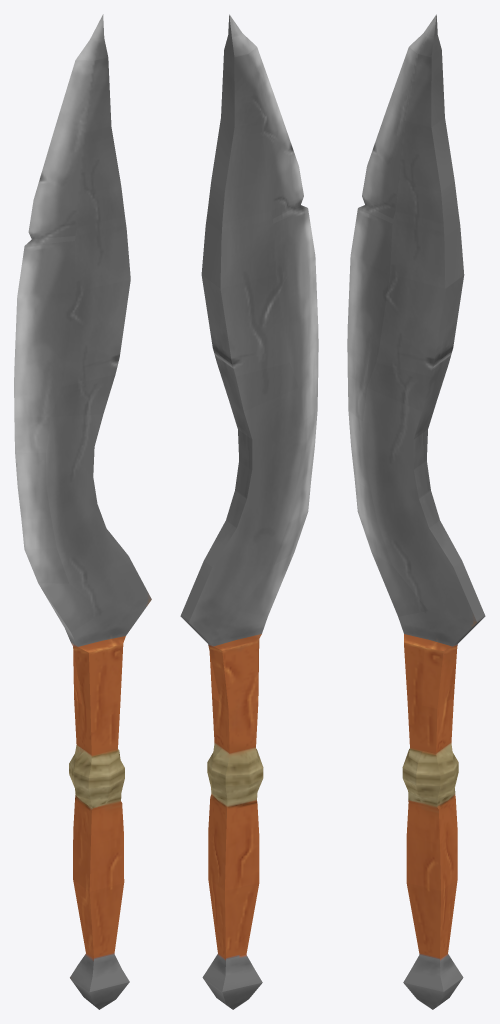
The model's file is scimitar-cheap.glb.
The picture shows the model from 3 angles, left to right: view 1: azimuth 30°, elevation 25°; view 2: azimuth 210°, elevation 25°; view 3: azimuth 330°, elevation 25°; orthographic projection.
Parts seen in each view (by area): view 1: Sword; view 2: Sword; view 3: Sword.
Boxes of the visible parts, box(x1,y1,x2,y2) form: Sword: box(14, 14, 151, 1009); Sword: box(180, 14, 318, 1009); Sword: box(347, 14, 485, 1009).
Size of the model in its own units: 0.4789 by 3.41 by 0.1723.
1 material, 1 textured.
